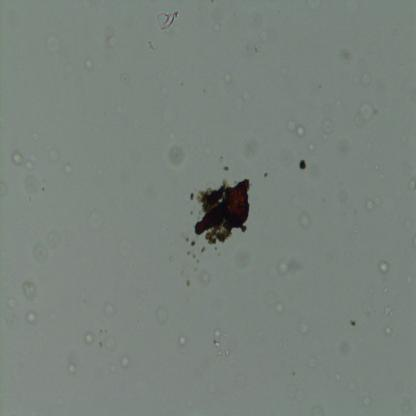Background material: (190, 174, 253, 246), (174, 235, 213, 291), (0, 283, 26, 330), (230, 121, 260, 155), (260, 280, 287, 316), (32, 227, 59, 260), (96, 12, 121, 47), (228, 242, 248, 278), (155, 7, 180, 33), (362, 184, 382, 216), (276, 254, 306, 275), (356, 98, 378, 126), (212, 327, 230, 359), (42, 139, 64, 162), (244, 35, 265, 59), (94, 334, 121, 350), (285, 118, 305, 139), (339, 334, 354, 362), (168, 144, 186, 166), (48, 34, 66, 55), (152, 302, 168, 325), (358, 69, 373, 93), (295, 316, 311, 338), (232, 95, 254, 111), (26, 176, 42, 198), (208, 5, 221, 32), (316, 121, 332, 142), (23, 280, 38, 302), (340, 48, 355, 68), (378, 256, 392, 276), (222, 68, 237, 86), (297, 211, 310, 231), (11, 148, 24, 168), (336, 140, 354, 154), (25, 307, 37, 327), (119, 69, 132, 87), (26, 152, 38, 171), (358, 394, 374, 408), (383, 318, 394, 338), (62, 159, 74, 177), (81, 56, 95, 71), (84, 330, 95, 348), (66, 360, 78, 376), (383, 302, 394, 318), (298, 156, 308, 173), (0, 174, 7, 195), (101, 305, 114, 316), (408, 175, 416, 192), (121, 354, 130, 368), (220, 164, 232, 174), (178, 334, 188, 346), (349, 318, 360, 328), (146, 40, 155, 51), (264, 170, 270, 178), (312, 364, 317, 370)
